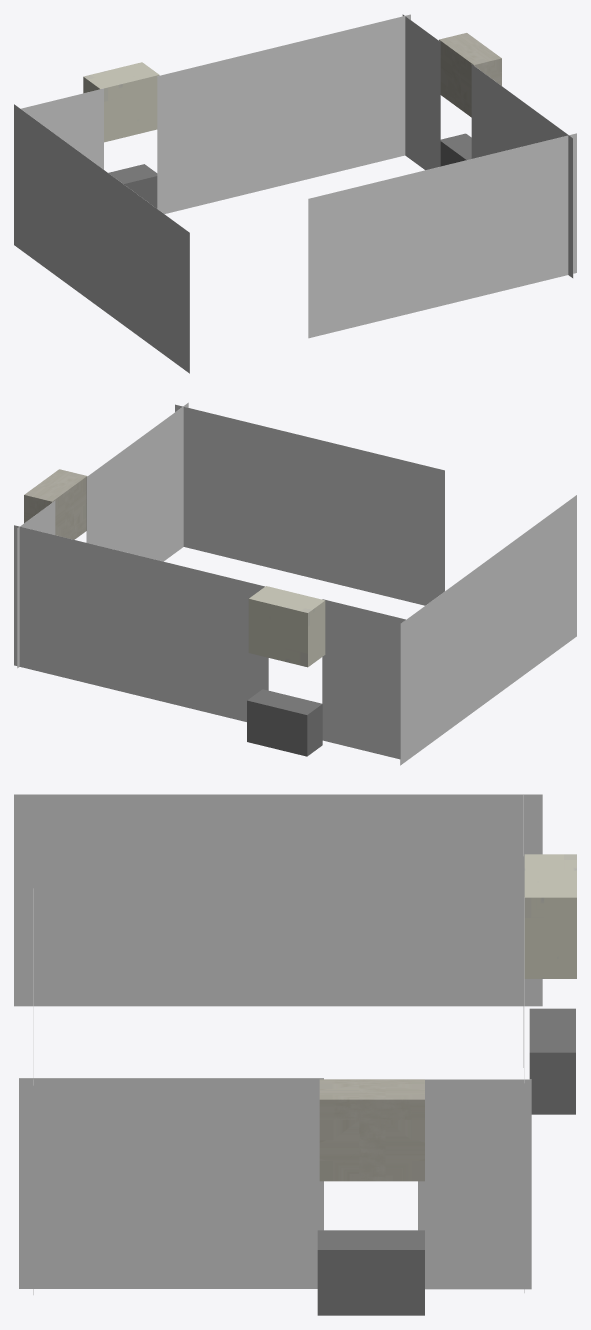
Rendered from KitchenWalls.fbx.
3 views of the same model, one above another, from view 1: azimuth 30°, elevation 25°; view 2: azimuth 150°, elevation 25°; view 3: azimuth 270°, elevation 25° (orthographic). The views are drawn at different scales.
Parts seen in each view (by area): view 1: WoodWall__15_, WoodWall__12_, WoodWall__10_, WoodWall__14_, WoodWall__13_, Cube__52_, WoodWall__11_, Cube__55_, Cube__51_, Cube__54_; view 2: WoodWall__15_, WoodWall__12_, WoodWall__10_, WoodWall__11_, WoodWall__14_, Cube__52_, Cube__51_, Cube__55_, WoodWall__13_; view 3: WoodWall__10_, WoodWall__14_, WoodWall__13_, Cube__55_, Cube__54_, Cube__52_, Cube__51_.
Boxes of the visible parts, x1=… form: WoodWall__15_: x1=308, y1=133, x2=576, y2=338; WoodWall__12_: x1=157, y1=14, x2=410, y2=213; WoodWall__10_: x1=14, y1=104, x2=189, y2=373; WoodWall__14_: x1=471, y1=64, x2=573, y2=278; WoodWall__13_: x1=402, y1=14, x2=440, y2=170; Cube__52_: x1=83, y1=62, x2=159, y2=142; WoodWall__11_: x1=21, y1=88, x2=103, y2=169; Cube__55_: x1=439, y1=33, x2=501, y2=117; Cube__51_: x1=108, y1=164, x2=157, y2=208; Cube__54_: x1=440, y1=133, x2=471, y2=166; WoodWall__15_: x1=175, y1=404, x2=444, y2=605; WoodWall__12_: x1=14, y1=525, x2=268, y2=721; WoodWall__10_: x1=400, y1=495, x2=576, y2=765; WoodWall__11_: x1=322, y1=599, x2=405, y2=759; WoodWall__14_: x1=86, y1=402, x2=188, y2=561; Cube__52_: x1=248, y1=586, x2=325, y2=667; Cube__51_: x1=247, y1=689, x2=322, y2=756; Cube__55_: x1=24, y1=469, x2=87, y2=539; WoodWall__13_: x1=17, y1=501, x2=55, y2=668; WoodWall__10_: x1=14, y1=794, x2=542, y2=1006; WoodWall__14_: x1=19, y1=1078, x2=323, y2=1288; WoodWall__13_: x1=418, y1=1079, x2=531, y2=1289; Cube__55_: x1=319, y1=1079, x2=424, y2=1181; Cube__54_: x1=317, y1=1230, x2=424, y2=1315; Cube__52_: x1=524, y1=854, x2=576, y2=978; Cube__51_: x1=529, y1=1008, x2=575, y2=1114.
Size of the model in its own units: 2319 by 776 by 1816.
4 materials, 2 textured.
